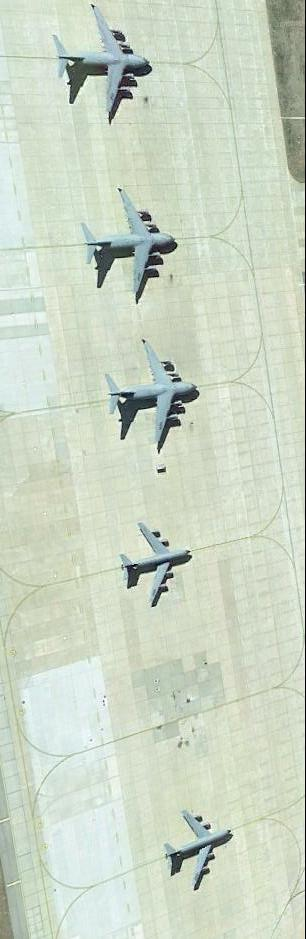C-17: (79, 188, 179, 302), (54, 7, 154, 119), (105, 343, 198, 449)
KC-135: (119, 525, 194, 610), (160, 807, 233, 888)
